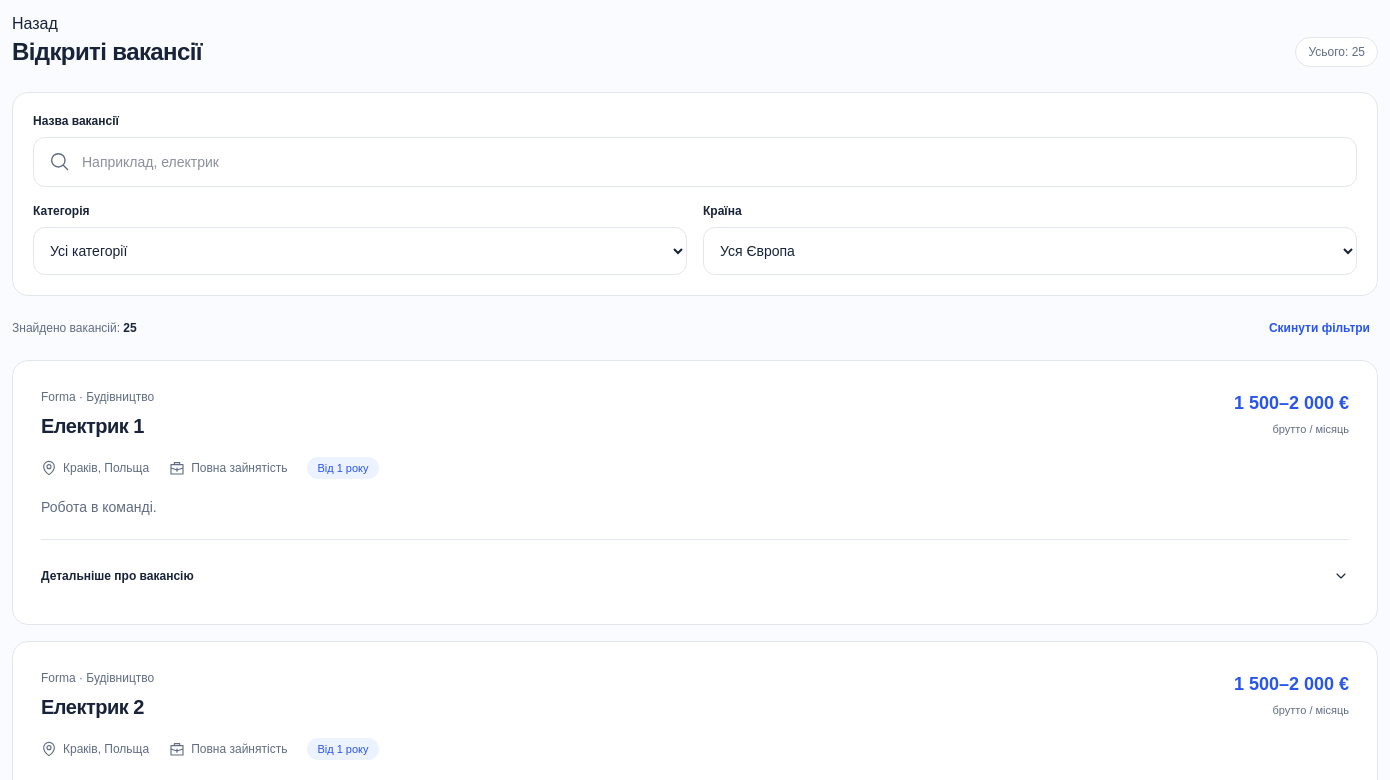
Test: show more vacancies › searches and combines filters across the entire catalog, including hidden cards
The image size is (1390, 780).
Check: the heading "Комірник" is not shown
Type "Комірник" into the search field. click: (711, 162)
box: x1=82 y1=138 x2=1340 y2=186
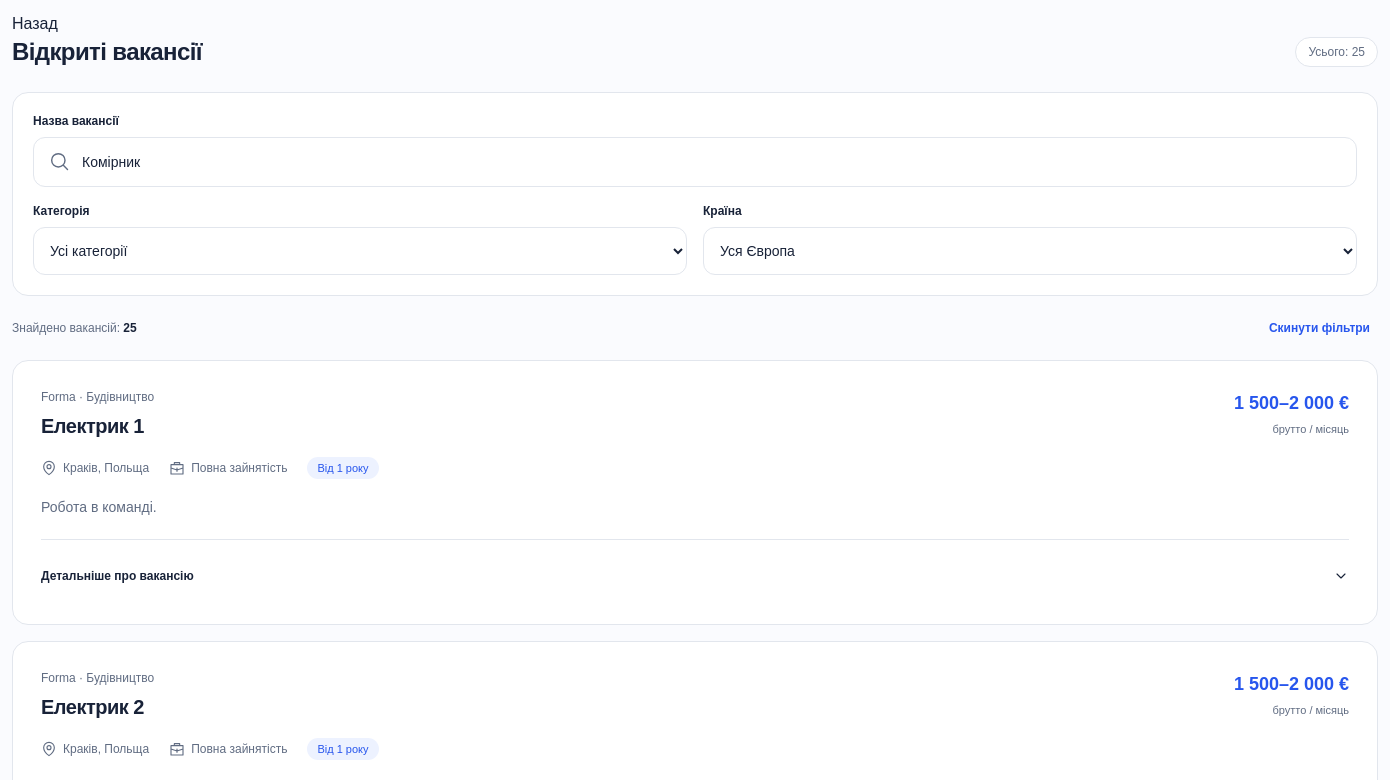
Select "Логістика" in the dropdown labelled "Категорія". click: (360, 251)
box: x1=33 y1=227 x2=687 y2=275
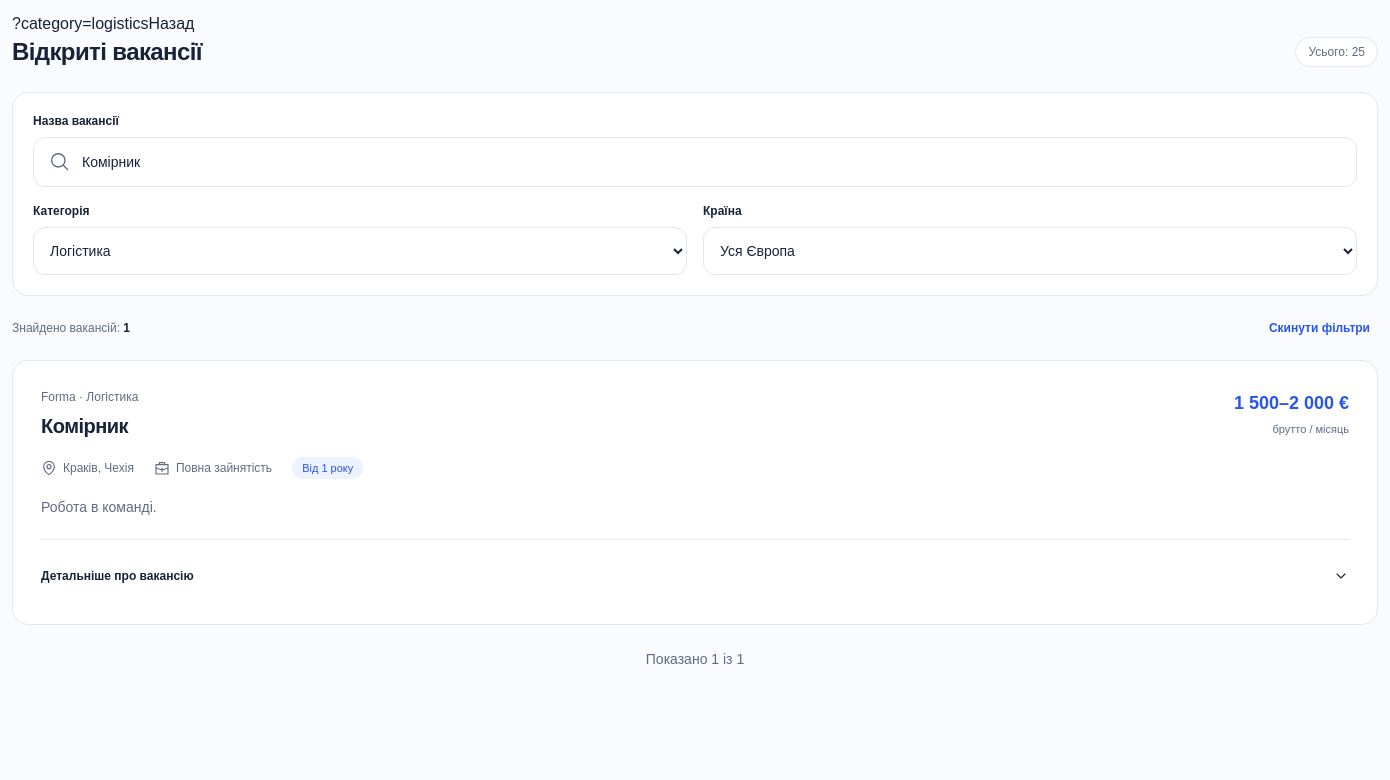
Select "Чехія" in the dropdown labelled "Країна". click: (1030, 251)
box: x1=703 y1=227 x2=1357 y2=275
Wait 350 ms
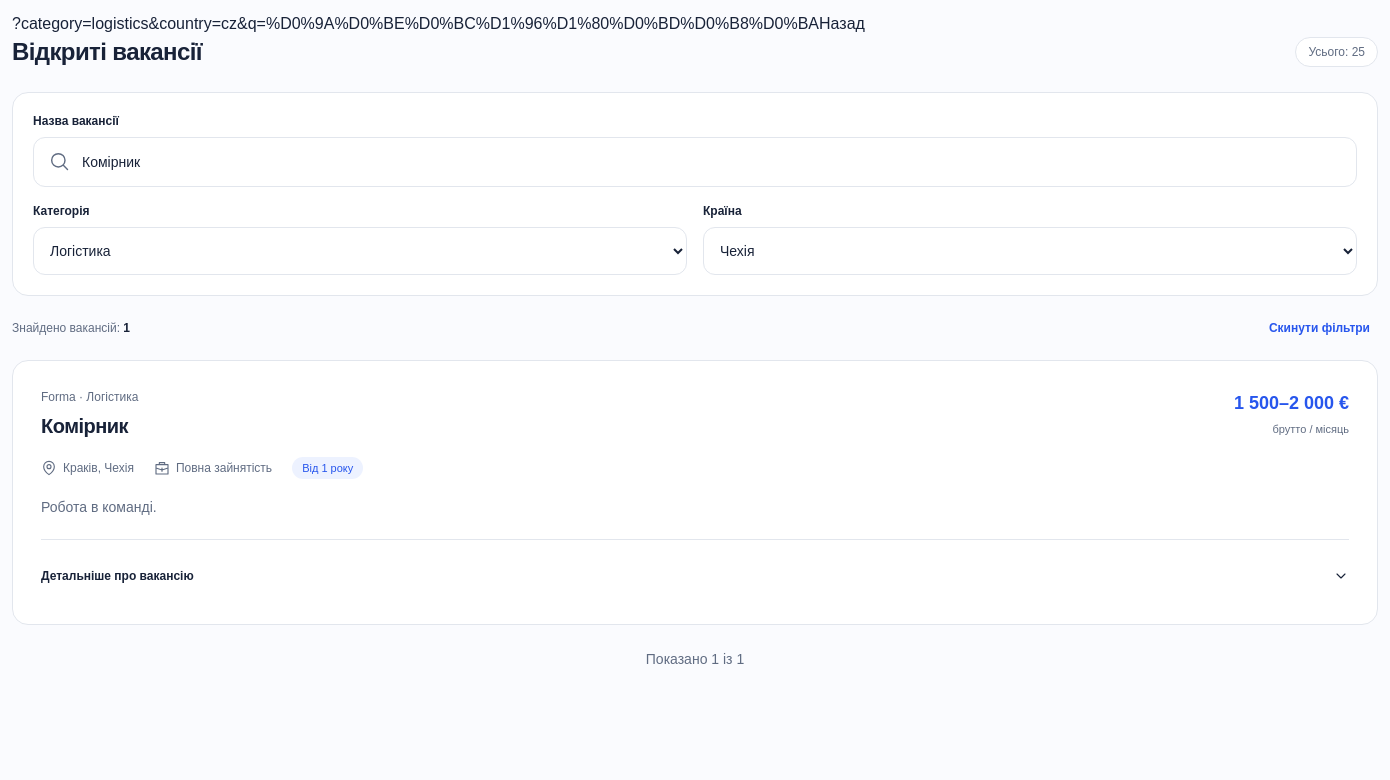
Check: the heading "Комірник" is shown, box x1=41 y1=413 x2=138 y2=440
Check: the text "Показано 1 із 1" is shown, box x1=646 y1=649 x2=744 y2=669
Select "Польща" in the dropdown labelled "Країна". click: (1030, 251)
box: x1=703 y1=227 x2=1357 y2=275
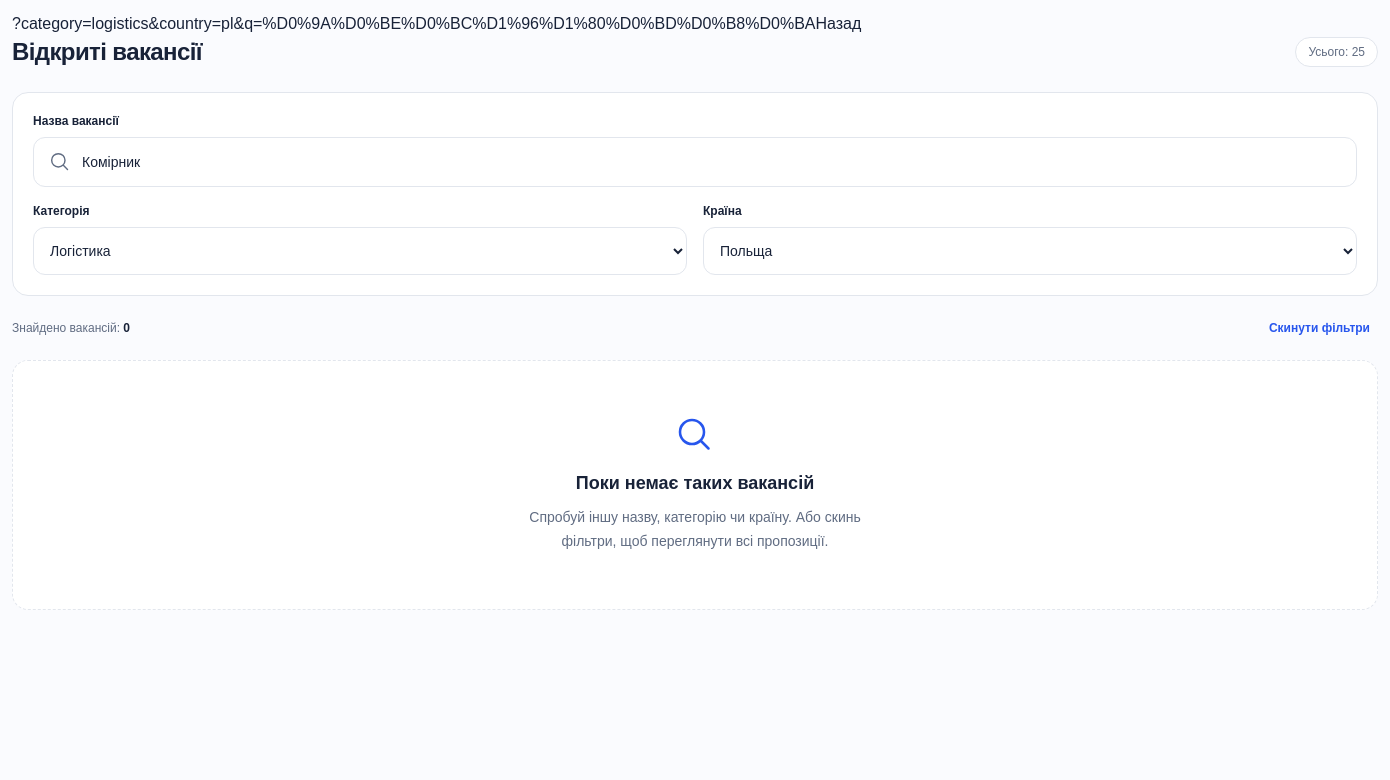
Check: the heading "Поки немає таких вакансій" is shown, box x1=576 y1=473 x2=814 y2=493
